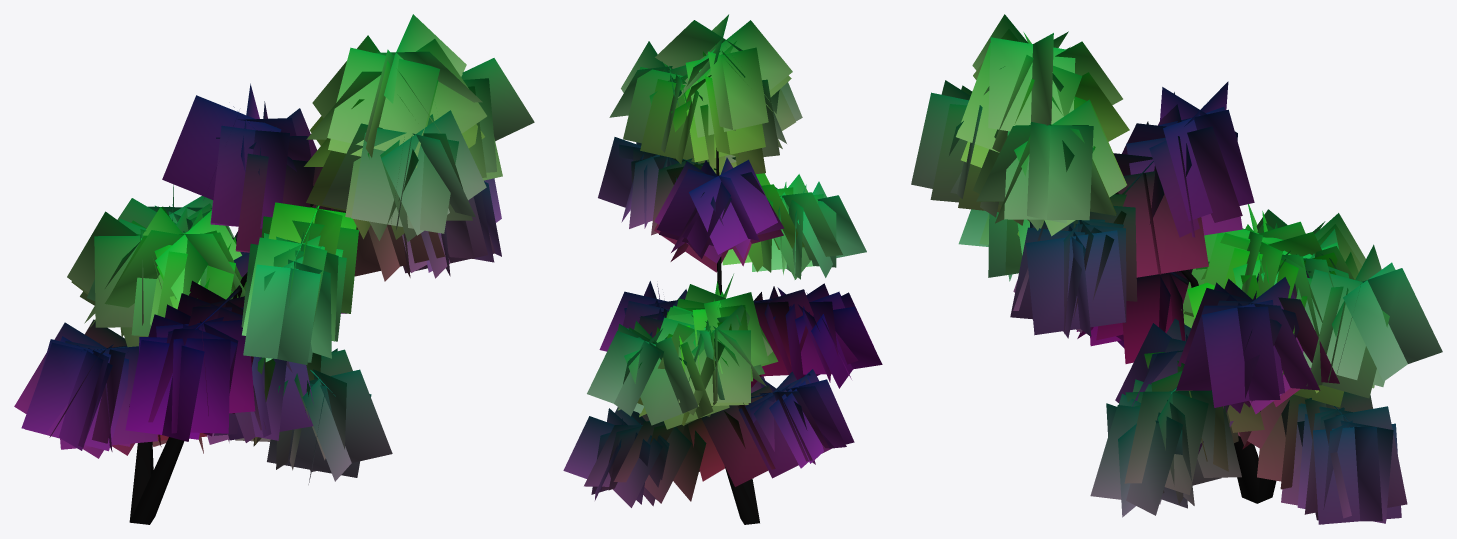
File: URP_P13_Tree_8_LOD_3.fbx
The picture shows the model from 3 angles, left to right: view 1: azimuth 30°, elevation 25°; view 2: azimuth 150°, elevation 25°; view 3: azimuth 270°, elevation 25°; orthographic projection. The views are drawn at different scales.
Visible parts, largest first — view 1: Tree_8_LOD_3; view 2: Tree_8_LOD_3; view 3: Tree_8_LOD_3.
Boxes of the visible parts, x1=… form: Tree_8_LOD_3: x1=14, y1=14, x2=534, y2=524; Tree_8_LOD_3: x1=563, y1=14, x2=882, y2=524; Tree_8_LOD_3: x1=911, y1=14, x2=1442, y2=524.
Bounding box in the file's own units: 532 × 667 × 584.
